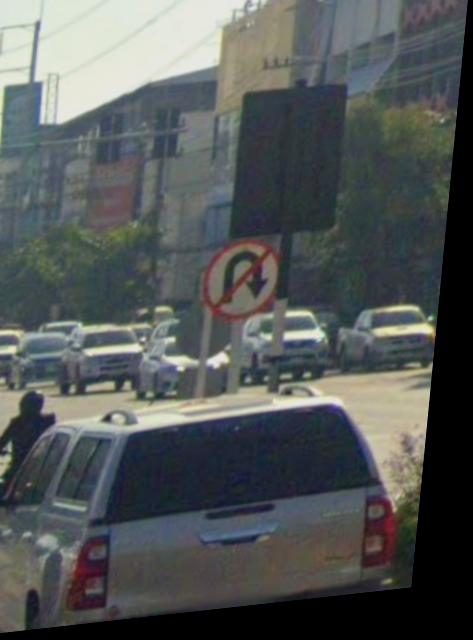not_u_turn_right: (203, 239, 293, 327)
